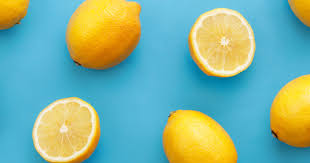Lemon: (58, 1, 151, 72), (162, 100, 227, 163), (263, 69, 310, 139)
